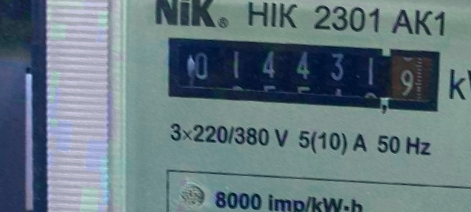0: (189, 48, 212, 83)
1: (225, 47, 246, 81), (362, 54, 378, 88)
3: (325, 51, 347, 85)
4: (256, 46, 280, 81), (291, 47, 312, 82)
9: (395, 66, 415, 98)
screen: (153, 18, 455, 132)
